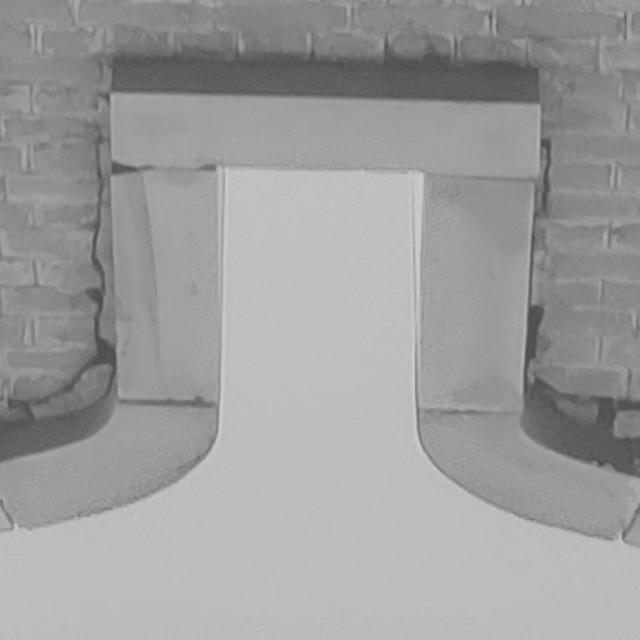crack: (6, 92, 116, 422), (524, 137, 640, 443)
